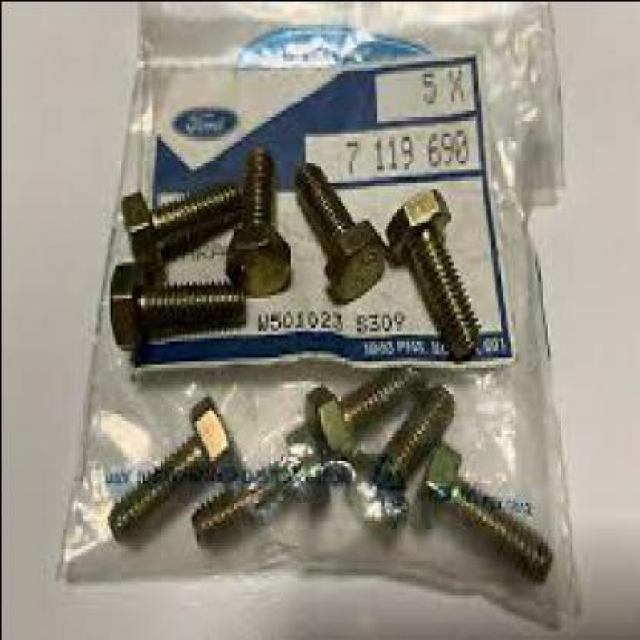METAL: (187, 422, 324, 567), (415, 436, 548, 584), (104, 396, 230, 541), (382, 185, 475, 357), (348, 383, 450, 525), (289, 158, 385, 300), (304, 354, 418, 458), (106, 261, 242, 347), (115, 184, 240, 270), (222, 142, 287, 290)
